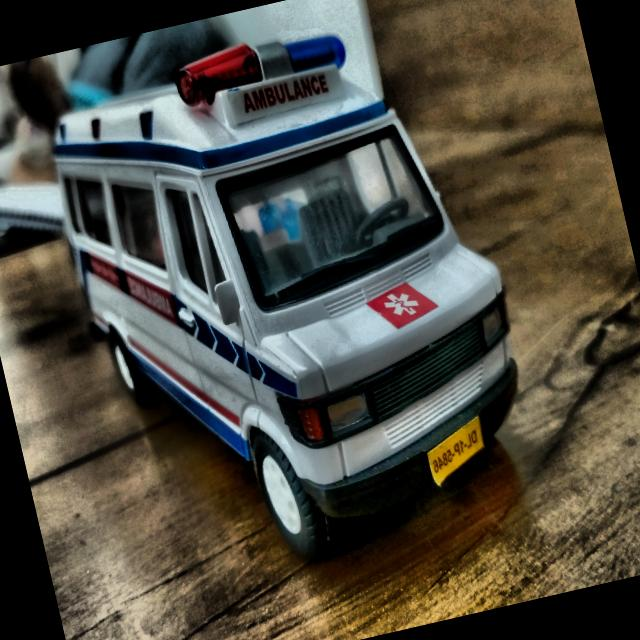Ambulance: (30, 0, 555, 594)
